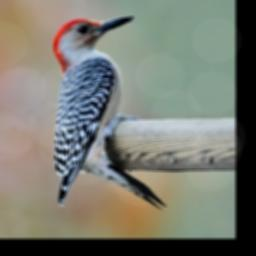Woodpecker: (42, 7, 175, 223)
